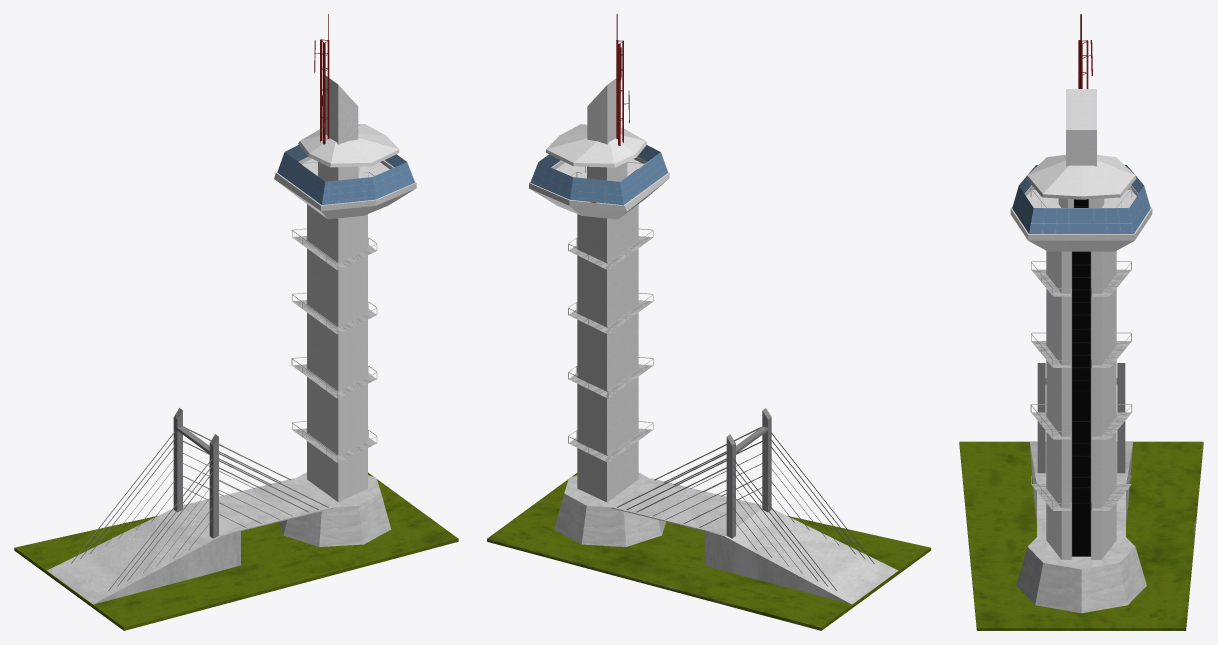
Rendered from miranteLOD2.fbx.
3 renders of one model, left to right at view 1: azimuth 30°, elevation 25°; view 2: azimuth 150°, elevation 25°; view 3: azimuth 270°, elevation 25°, orthographic. The views are drawn at different scales.
Visible parts, largest first — view 1: miranteLOD2; view 2: miranteLOD2; view 3: miranteLOD2.
Boxes of the visible parts, bbox=[...] form: miranteLOD2: bbox=[14, 14, 458, 630]; miranteLOD2: bbox=[487, 14, 930, 630]; miranteLOD2: bbox=[959, 14, 1203, 630].
Bounding box in the file's own units: 6666 × 9557 × 3698.
Materials: 1 (1 with a texture image).
